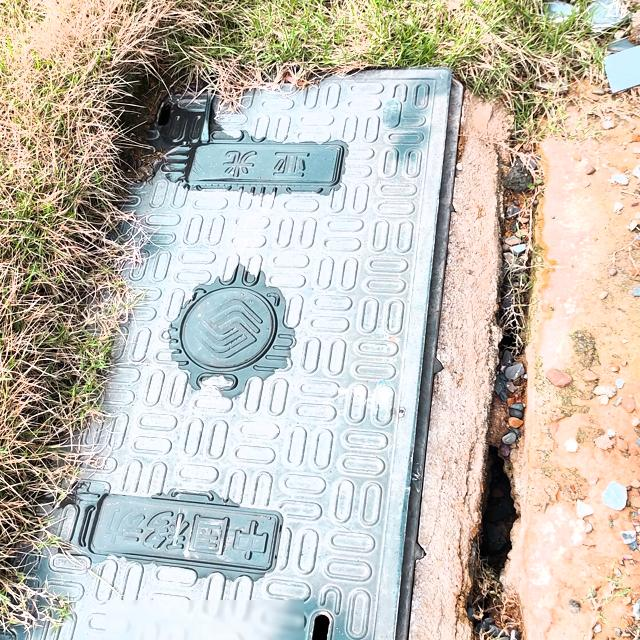uncovered: (0, 68, 462, 640)
